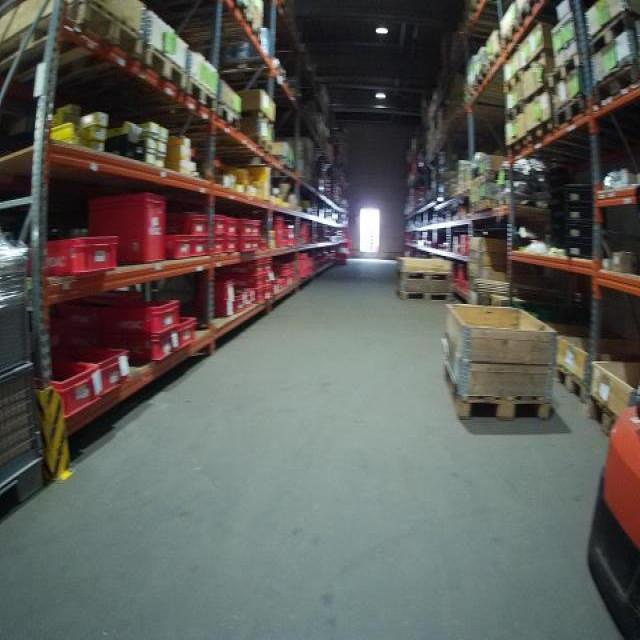pallet: (0, 0, 146, 82), (434, 352, 561, 425), (146, 47, 189, 95), (596, 61, 636, 108), (586, 395, 618, 445), (555, 92, 590, 131), (559, 362, 586, 408), (546, 56, 583, 83), (394, 289, 454, 304), (528, 116, 551, 150), (398, 269, 453, 281), (506, 103, 525, 128), (509, 137, 528, 159), (504, 70, 522, 93)
pallet_truck: (582, 370, 640, 639)
small_load_carrier: (89, 188, 172, 266), (59, 316, 201, 351), (25, 231, 123, 278), (32, 362, 105, 416), (44, 353, 123, 393), (101, 300, 186, 331), (58, 295, 129, 322), (196, 276, 239, 300), (166, 211, 206, 235), (559, 202, 603, 223), (564, 240, 606, 262), (160, 232, 190, 260), (562, 182, 603, 202), (559, 223, 606, 240), (225, 271, 264, 291), (196, 300, 235, 319), (222, 258, 263, 276), (199, 212, 228, 231), (271, 218, 287, 249), (208, 232, 228, 255), (236, 287, 254, 312), (190, 236, 213, 255), (257, 256, 277, 275), (238, 216, 254, 238), (223, 237, 239, 258), (250, 289, 267, 306), (250, 222, 266, 238), (285, 223, 296, 245), (257, 287, 272, 303), (228, 218, 239, 237), (263, 271, 273, 288), (272, 281, 282, 298), (242, 238, 254, 251), (232, 296, 240, 315), (254, 239, 264, 253), (285, 264, 296, 273)
stillage: (2, 297, 52, 535)
